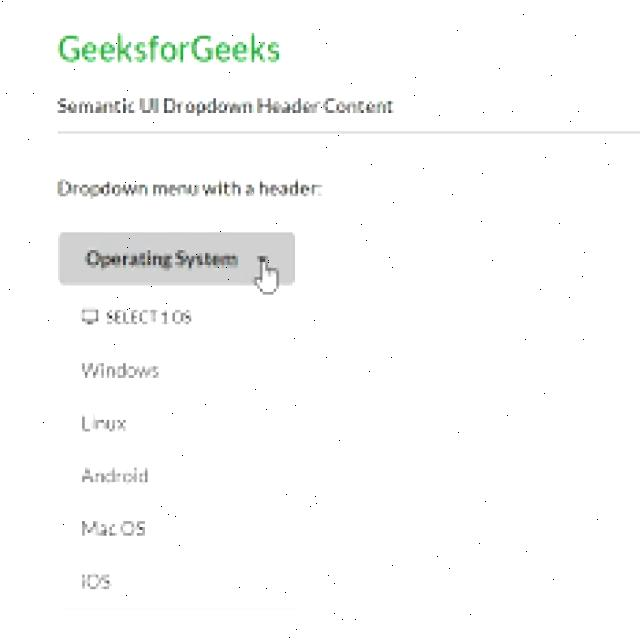dropdownMenu: (55, 231, 298, 617)
label: (50, 168, 338, 212), (75, 299, 196, 331), (76, 356, 167, 384), (74, 461, 154, 488), (77, 515, 147, 539), (76, 409, 132, 435), (76, 568, 117, 594)
